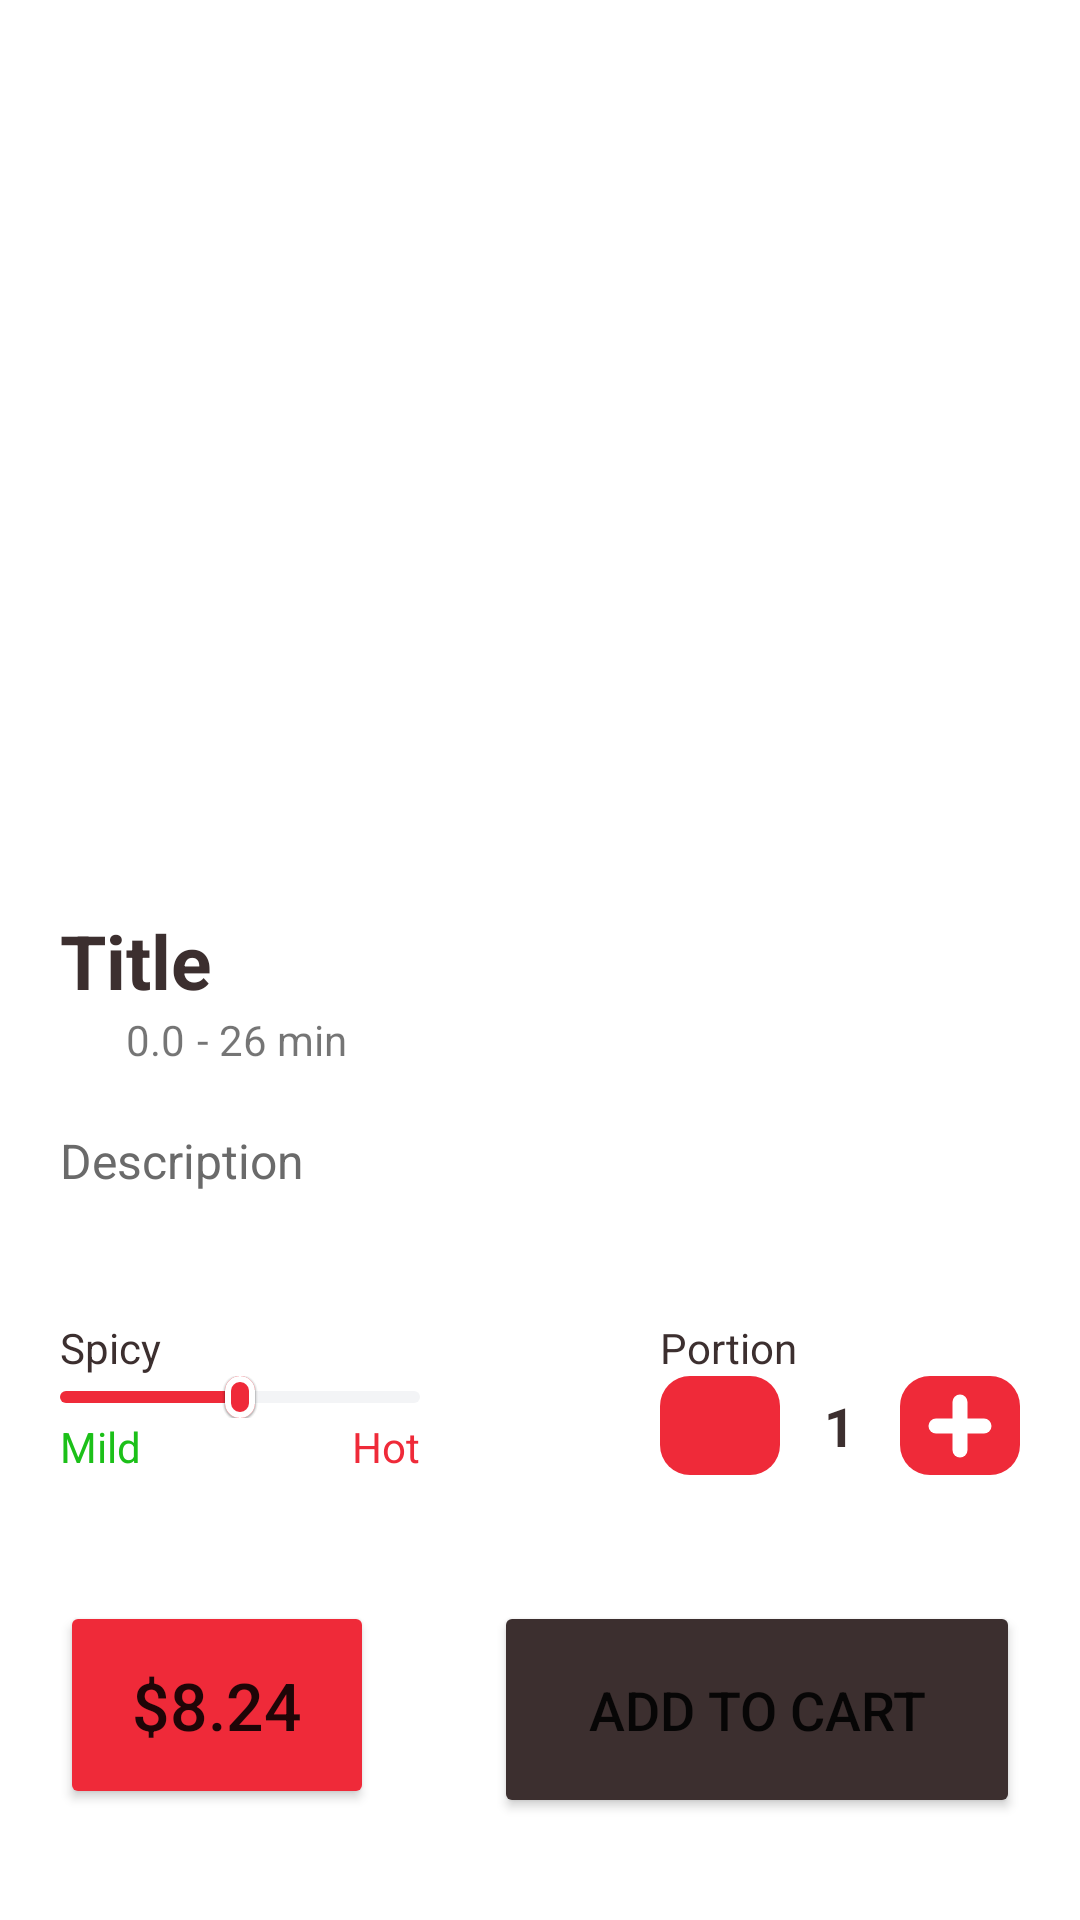

Icon bounding boxes for this 1080*1920 phone screenshot, format detection(x1, y1, x2, y2):
plus: detection(900, 1376, 1020, 1475)
